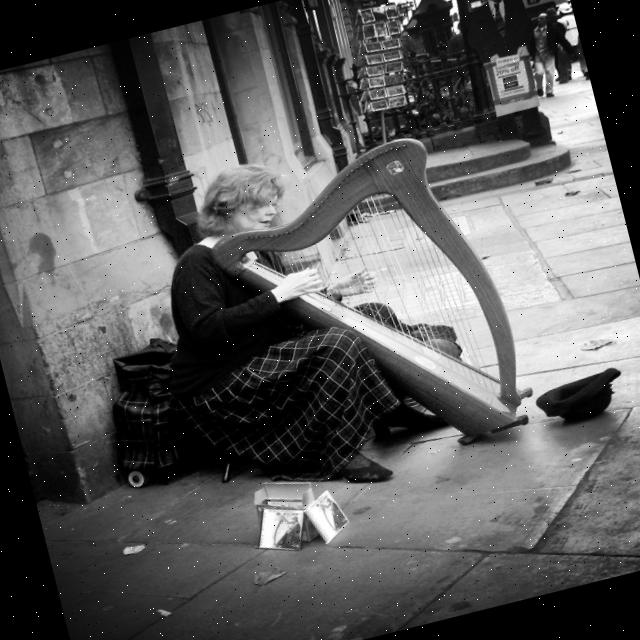harp: (187, 121, 540, 497)
